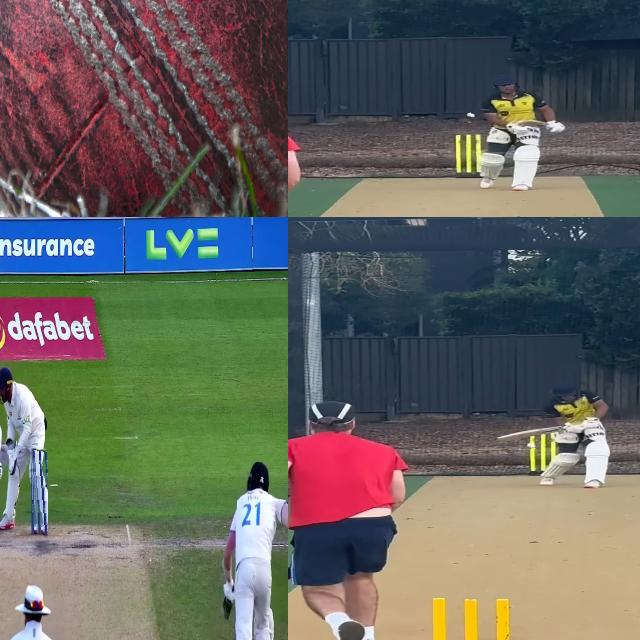Cricket ball: (0, 0, 288, 217), (525, 441, 538, 449), (465, 111, 477, 118)
Stumps: (420, 597, 528, 640), (30, 444, 48, 538), (527, 432, 558, 478), (453, 134, 484, 179)
